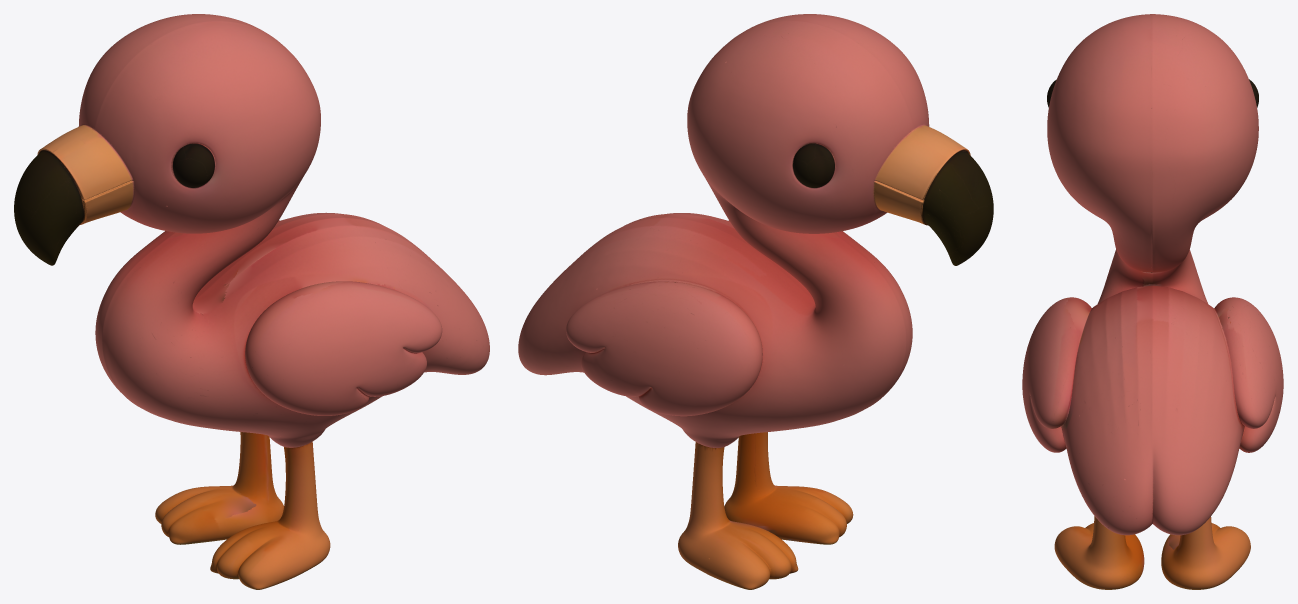
Rendered from ave rosada.glb.
The picture shows the model from 3 angles, left to right: view 1: azimuth 30°, elevation 25°; view 2: azimuth 150°, elevation 25°; view 3: azimuth 270°, elevation 25°; orthographic projection. The views are drawn at different scales.
Visible parts, largest first — view 1: texture_pbr_v128; view 2: texture_pbr_v128; view 3: texture_pbr_v128.
Part boxes in pixels (x1=…): texture_pbr_v128: x1=14, y1=14, x2=489, y2=589; texture_pbr_v128: x1=518, y1=14, x2=993, y2=589; texture_pbr_v128: x1=1022, y1=14, x2=1283, y2=589.
Size of the model in its own units: 1.01 by 1.13 by 0.5192.
Materials: 1 (1 with a texture image).
